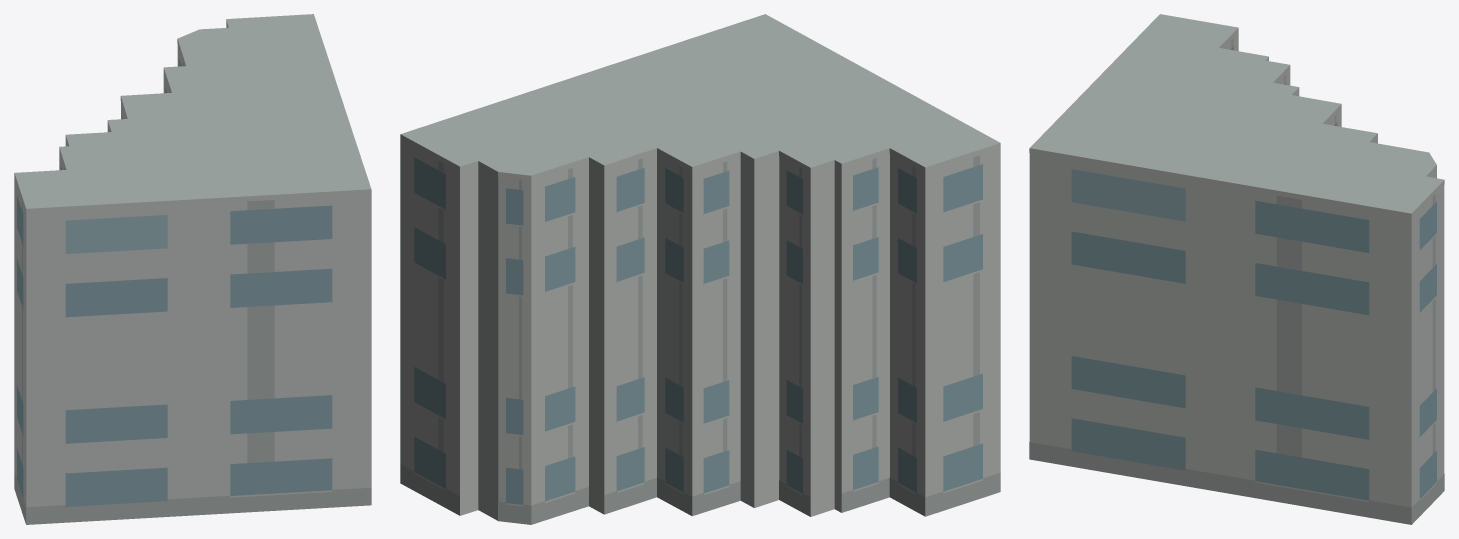
File: survey-upis-32822442.glb
3 views of the same model, side by side, from view 1: azimuth 30°, elevation 25°; view 2: azimuth 150°, elevation 25°; view 3: azimuth 270°, elevation 25° (orthographic). The views are drawn at different scales.
Parts seen in each view (by area): view 1: survey-upis-32822442.tmp; view 2: survey-upis-32822442.tmp; view 3: survey-upis-32822442.tmp.
Boxes of the visible parts, box(x1,y1,x2,y2) form: survey-upis-32822442.tmp: box(14, 14, 371, 524); survey-upis-32822442.tmp: box(400, 14, 1000, 524); survey-upis-32822442.tmp: box(1029, 14, 1444, 524).
Bounding box in the file's own units: 20.94 × 15.22 × 18.4.
